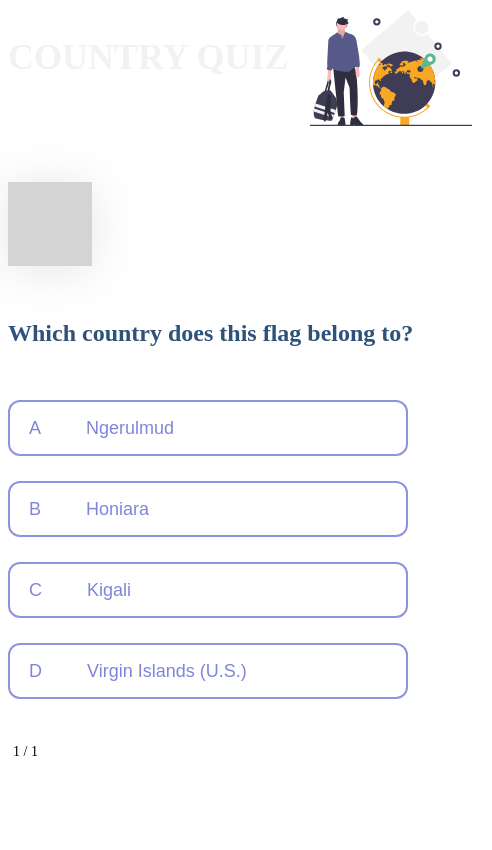
Test case: Quiz › quiz can be ended
Click the text "A": (35, 428) [29,415,41,442]
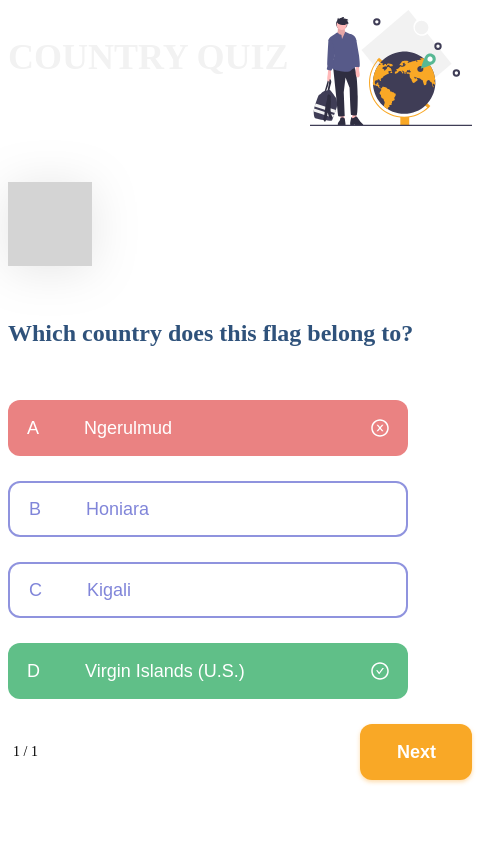
Click the button "Next": (416, 752) [360,724,472,780]
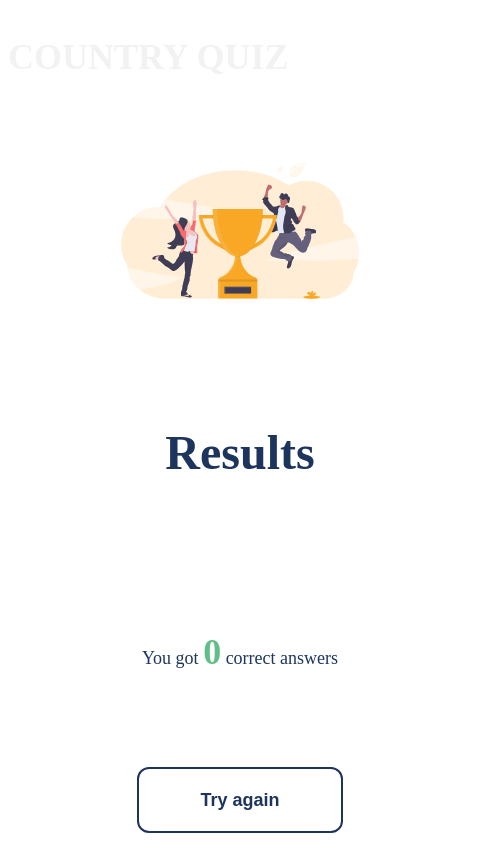
expect the heading "Results" is shown: met, box [165,417,315,489]
